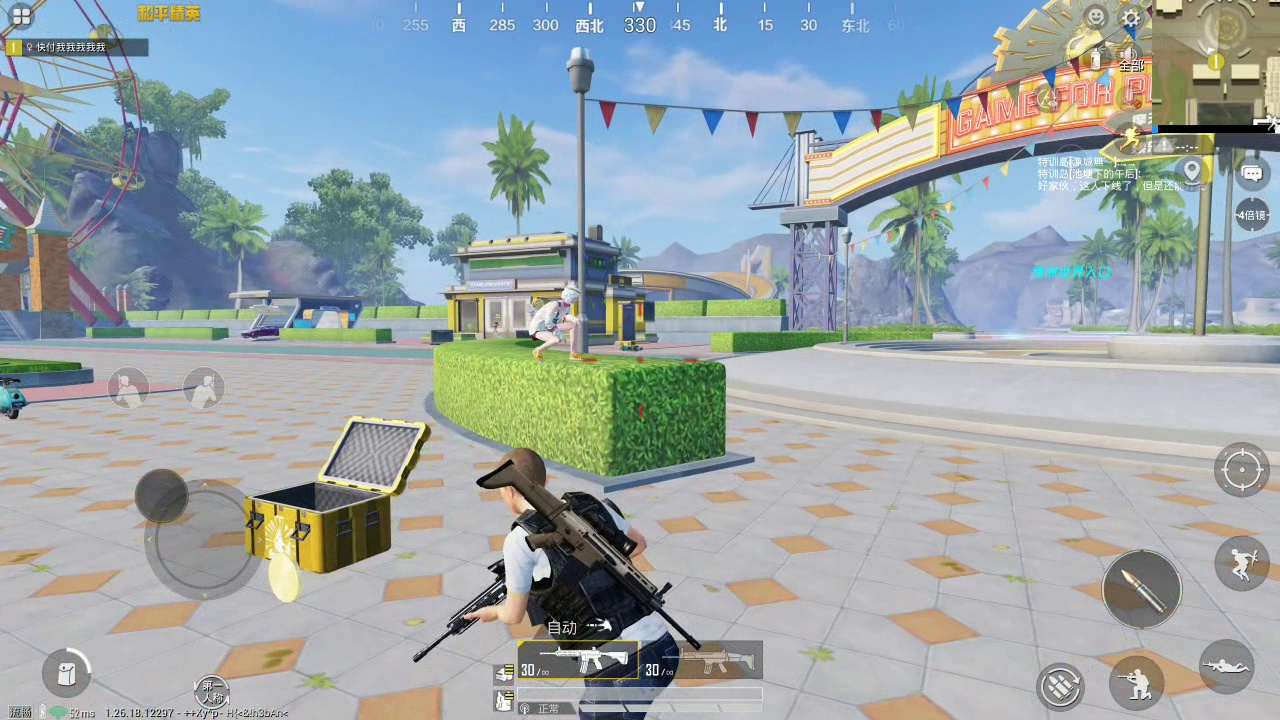enemy: (526, 284, 582, 365)
